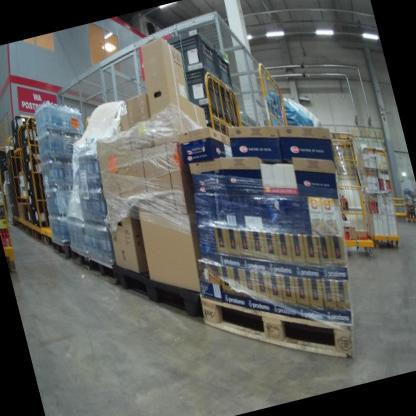pallet: (195, 253, 373, 395), (110, 244, 207, 340), (70, 235, 118, 291), (50, 232, 76, 267)
